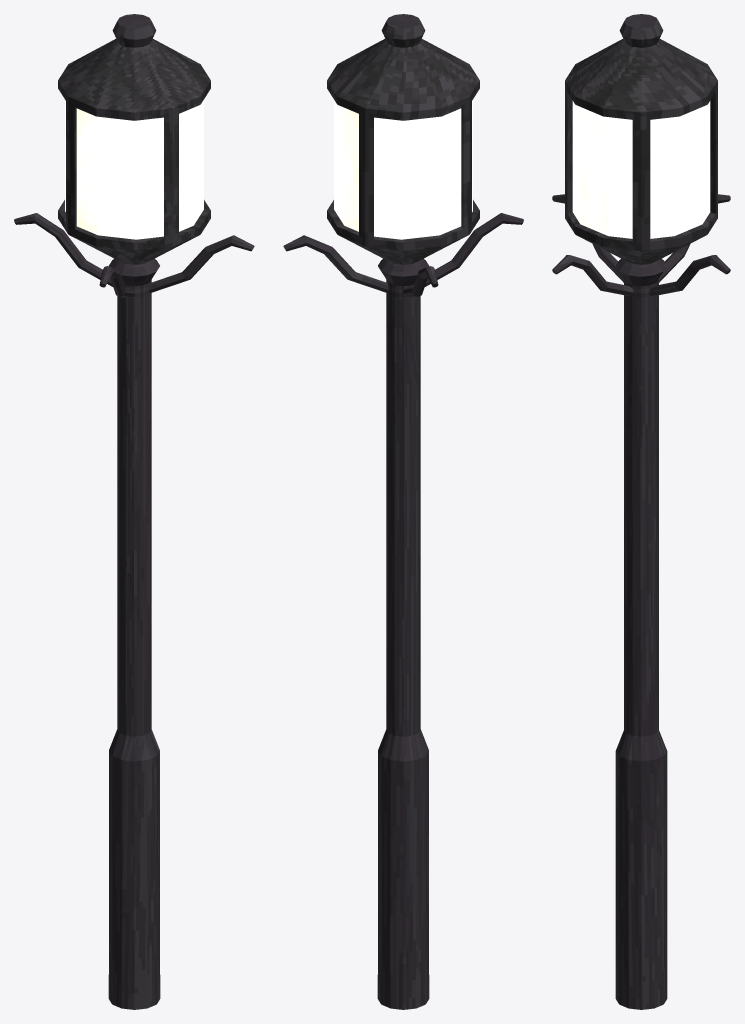
The model's file is Farola.fbx.
3 views of the same model, side by side, from view 1: azimuth 30°, elevation 25°; view 2: azimuth 150°, elevation 25°; view 3: azimuth 270°, elevation 25° (orthographic).
Visible parts, largest first — view 1: La Farola; view 2: La Farola; view 3: La Farola.
Boxes of the visible parts, box(x1,y1,x2,y2) form: La Farola: box(14, 14, 254, 1009); La Farola: box(283, 14, 523, 1009); La Farola: box(552, 14, 730, 1009).
Size of the model in its own units: 96.19 by 581 by 96.19.
Materials: 1 (1 with a texture image).
